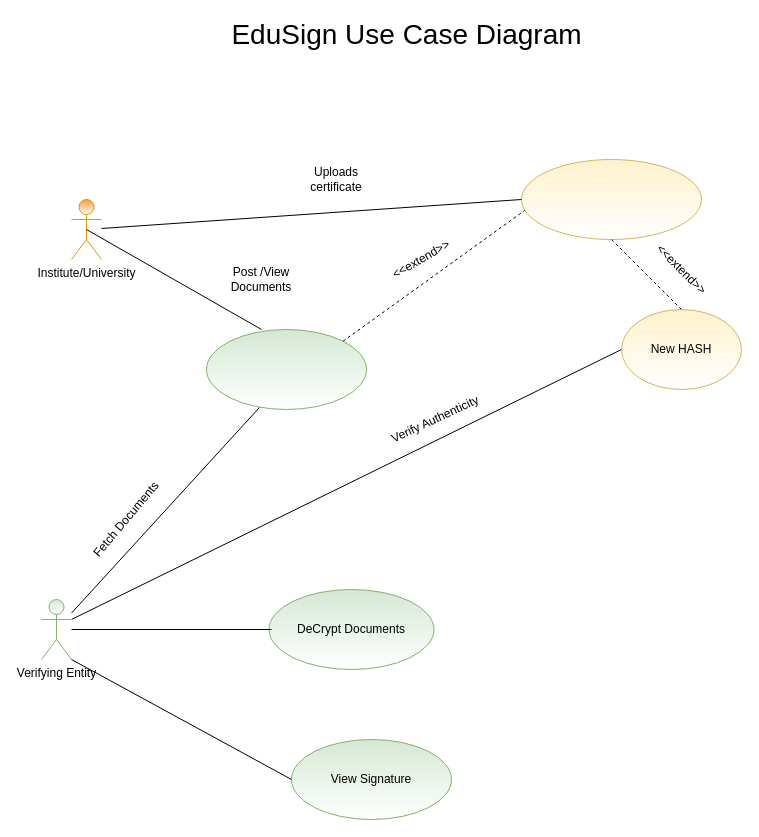
Image size: 759x837. Some labels were removed from this diagram. Each missing label, with the centre of its shape:
Document Storage: [286,369]
HASH DB: [611,199]
